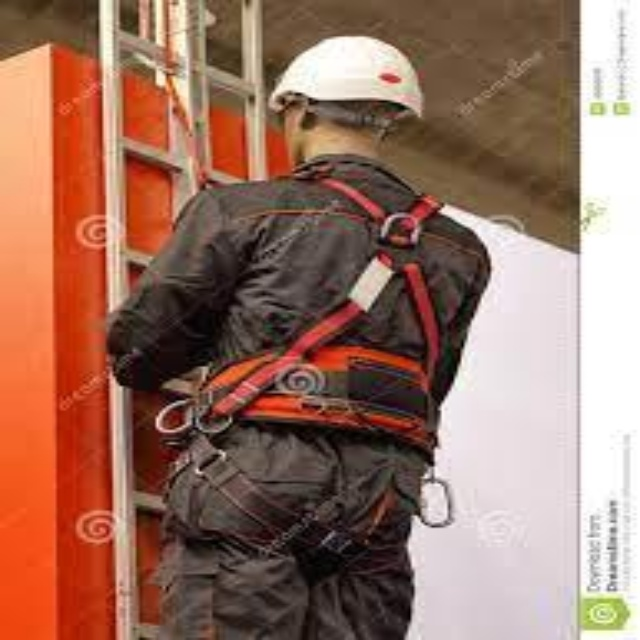Arnes_seguridad: (180, 174, 464, 573)
